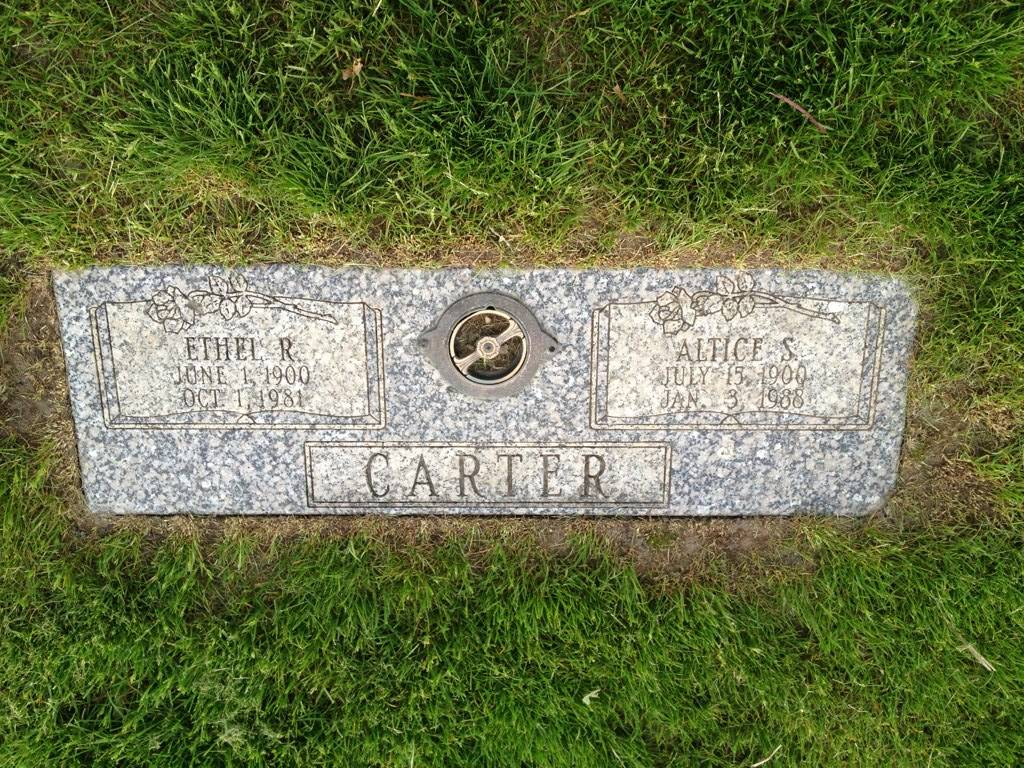flat: (46, 258, 923, 518)
